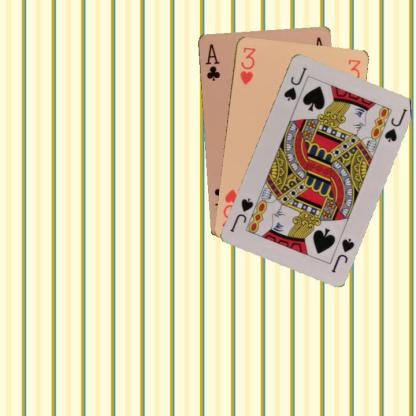3h: (237, 44, 257, 85)
Ac: (202, 41, 221, 82)
Js: (328, 234, 356, 274), (281, 64, 308, 102)
